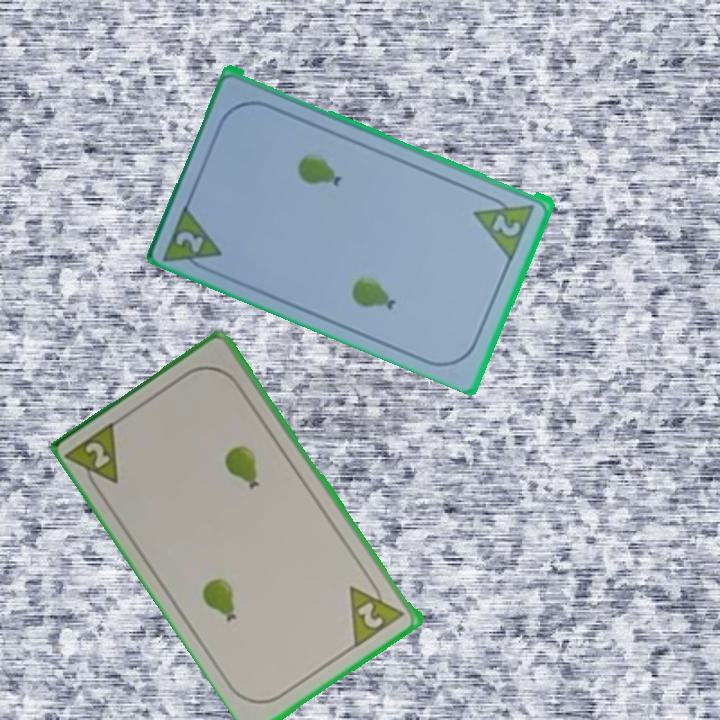2p: (64, 417, 123, 499), (346, 572, 408, 649), (489, 210, 524, 239), (172, 227, 207, 256)
